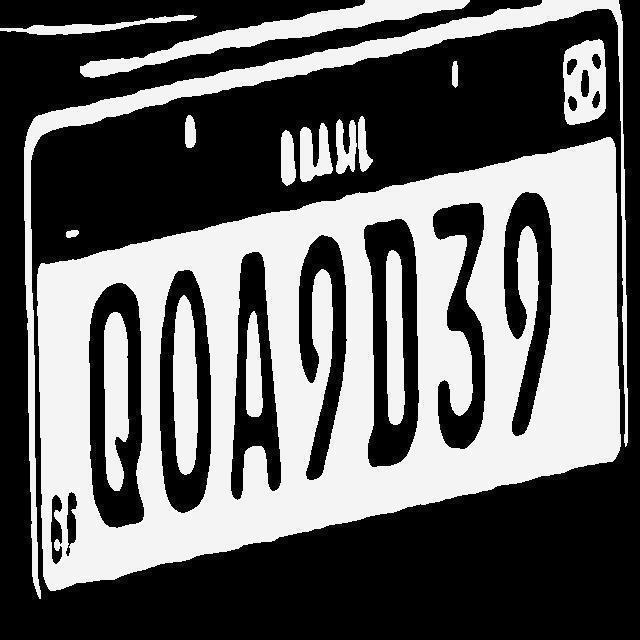3: (430, 196, 491, 453)
9: (500, 188, 557, 438), (297, 230, 349, 482)
a: (225, 251, 282, 502)
d: (362, 218, 422, 470)
o: (156, 268, 213, 513)
q: (83, 280, 144, 531)
